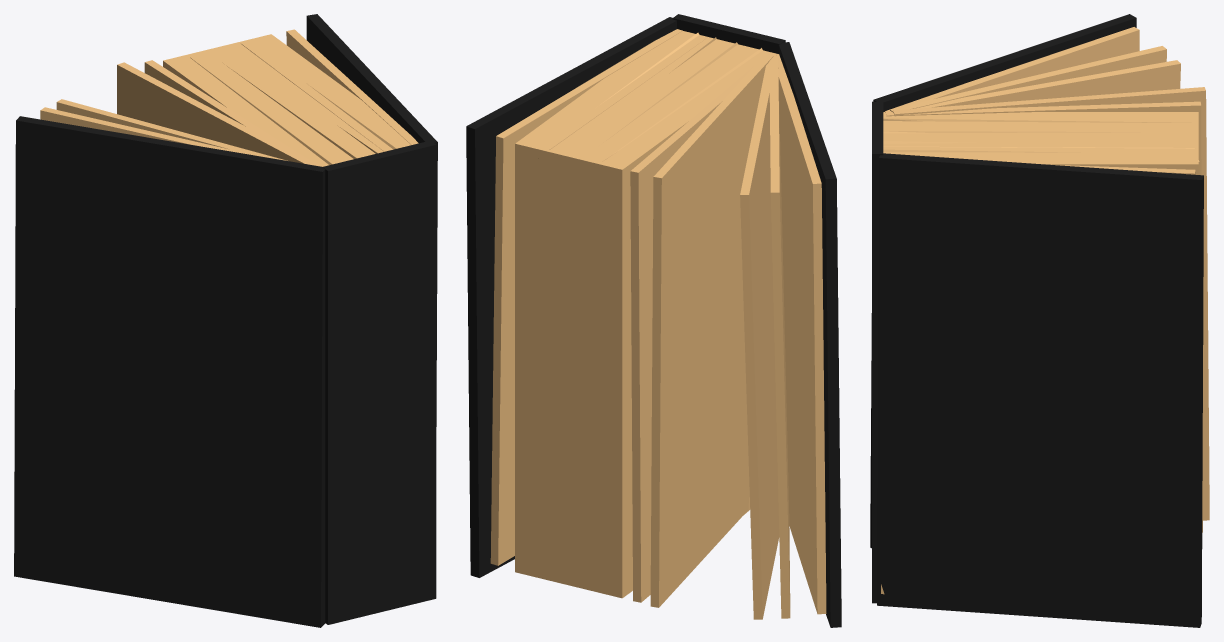
Rendered from openBook.fbx.
The picture shows the model from 3 angles, left to right: view 1: azimuth 30°, elevation 25°; view 2: azimuth 150°, elevation 25°; view 3: azimuth 270°, elevation 25°; orthographic projection.
Parts seen in each view (by area): view 1: mesh_453196978, mesh_764487084, mesh_1732650196, mesh_2036730511, mesh_1485198180, mesh_1701123784, mesh_952449271, mesh_1392937841, mesh_1987728097; view 2: mesh_1732650196, mesh_2036730511, mesh_1388995078, mesh_1485198180, mesh_952449271, mesh_1701123784, mesh_1987728097, mesh_453196978, mesh_1392937841, mesh_764487084; view 3: mesh_1485198180, mesh_1732650196, mesh_2036730511, mesh_952449271, mesh_453196978, mesh_1388995078, mesh_764487084, mesh_1392937841, mesh_1987728097, group_833298882, mesh_1701123784, group_1151146375.
Boxes of the visible parts, x1,y1,x2,y2 form: mesh_453196978: (14, 116, 325, 627); mesh_764487084: (322, 140, 436, 624); mesh_1732650196: (163, 34, 410, 166); mesh_2036730511: (117, 62, 321, 166); mesh_1485198180: (306, 14, 437, 426); mesh_1701123784: (286, 29, 418, 144); mesh_952449271: (56, 99, 287, 160); mesh_1392937841: (40, 107, 257, 155); mesh_1987728097: (144, 60, 307, 158); mesh_1732650196: (515, 31, 778, 598); mesh_2036730511: (650, 54, 773, 607); mesh_1388995078: (776, 54, 826, 614); mesh_1485198180: (466, 17, 676, 577); mesh_952449271: (740, 62, 779, 619); mesh_1701123784: (490, 29, 682, 565); mesh_1987728097: (630, 52, 776, 602); mesh_453196978: (778, 42, 841, 627); mesh_1392937841: (769, 55, 790, 618); mesh_764487084: (672, 14, 785, 53); mesh_1485198180: (877, 153, 1203, 627); mesh_1732650196: (883, 112, 1198, 174); mesh_2036730511: (893, 87, 1209, 520); mesh_952449271: (914, 60, 1180, 108); mesh_453196978: (870, 14, 1136, 548); mesh_1388995078: (884, 27, 1139, 112); mesh_764487084: (872, 101, 883, 603); mesh_1392937841: (890, 46, 1166, 112); mesh_1987728097: (885, 101, 1202, 532); group_833298882: (883, 118, 1191, 122); mesh_1701123784: (881, 164, 1195, 594); group_1151146375: (883, 131, 1140, 133).
Size of the model in its own units: 34.64 by 44.3 by 30.13.
